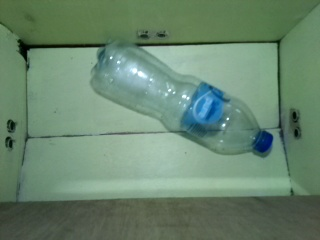bottle: (87, 36, 275, 156)
